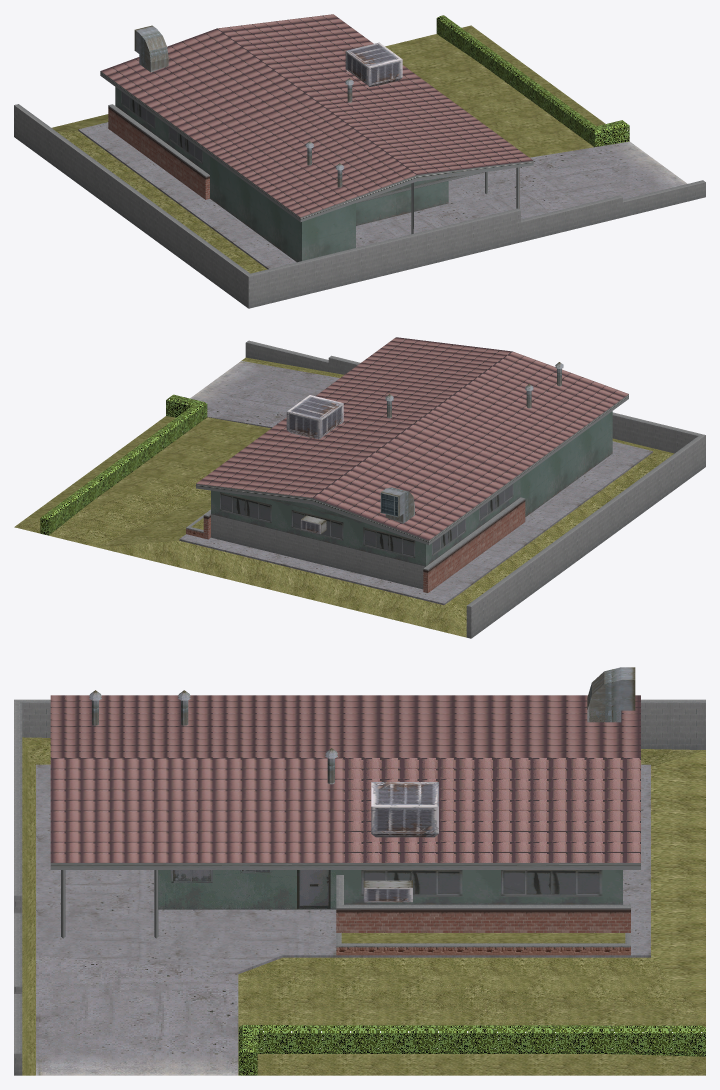
The model's file is shabbyhouse01_lvs.obj.
3 renders of one model, top to bottom at view 1: azimuth 30°, elevation 25°; view 2: azimuth 150°, elevation 25°; view 3: azimuth 270°, elevation 25°, orthographic. The views are drawn at different scales.
Visible parts, largest first — view 1: shabbyhouse01_lvs; view 2: shabbyhouse01_lvs; view 3: shabbyhouse01_lvs.
Boxes of the visible parts, x1,y1,x2,y2 form: shabbyhouse01_lvs: [14, 14, 705, 308]; shabbyhouse01_lvs: [14, 337, 705, 638]; shabbyhouse01_lvs: [14, 667, 705, 1075].
Size of the model in its own units: 30 by 6.34 by 26.67.
16 materials, 16 textured.
